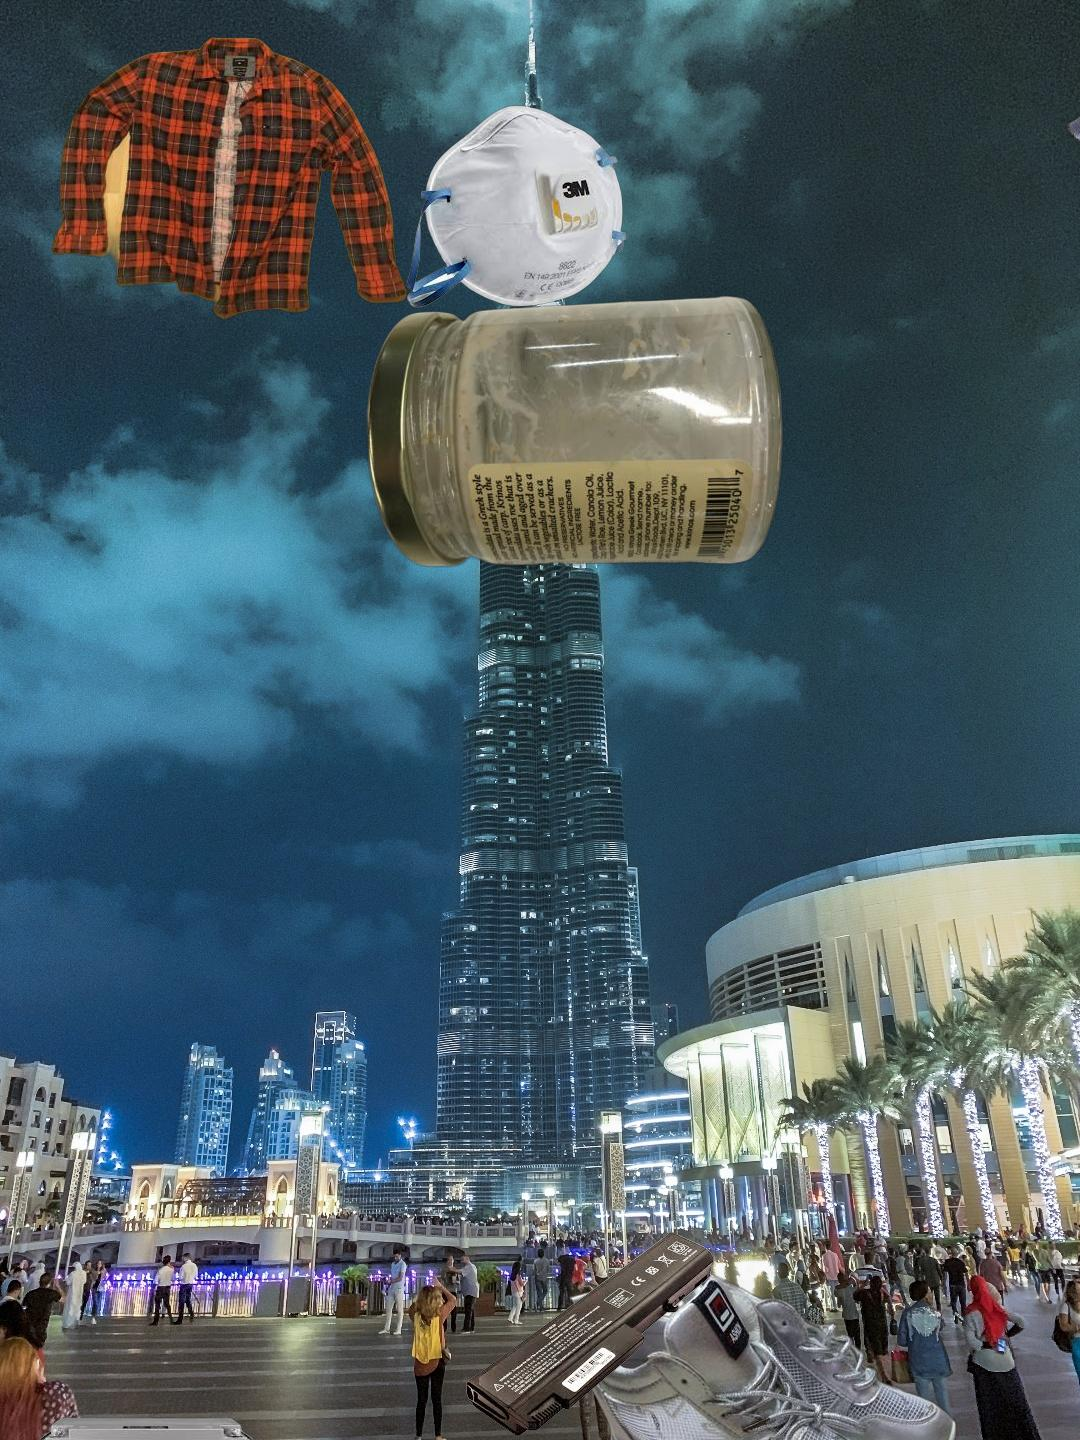battery: (466, 1233, 714, 1435), (34, 1415, 258, 1440)
clothes: (48, 34, 410, 337), (1063, 36, 1080, 392)
glass: (363, 289, 788, 570)
shoes: (569, 1256, 969, 1440)
trash: (404, 103, 628, 319)
